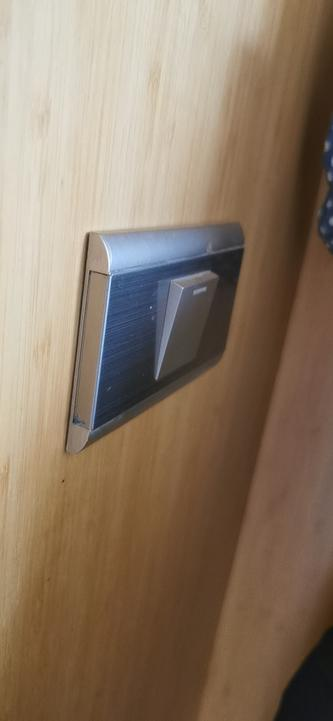switch: (155, 265, 216, 370)
